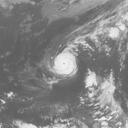cyclone: (46, 42, 79, 78)
